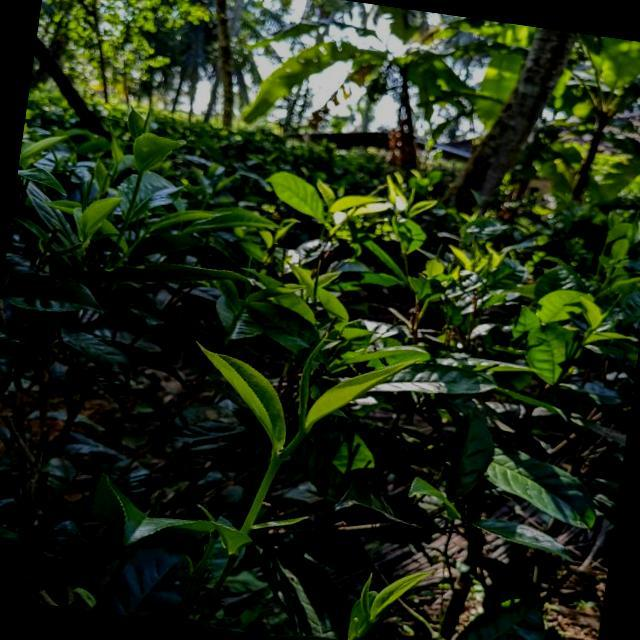Stem: (296, 432, 305, 440)
